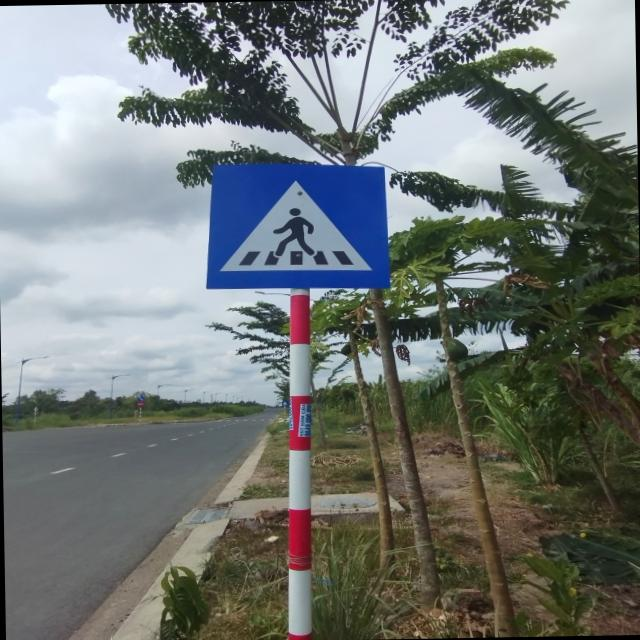Giao_Nhau_Duong_Uu_Tien: (204, 160, 390, 292)
